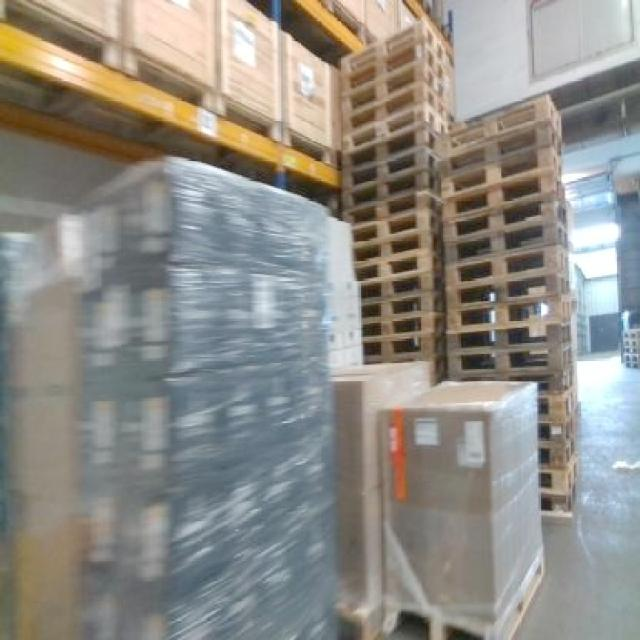pallets: (0, 157, 332, 637), (442, 94, 574, 508), (378, 380, 542, 637)
